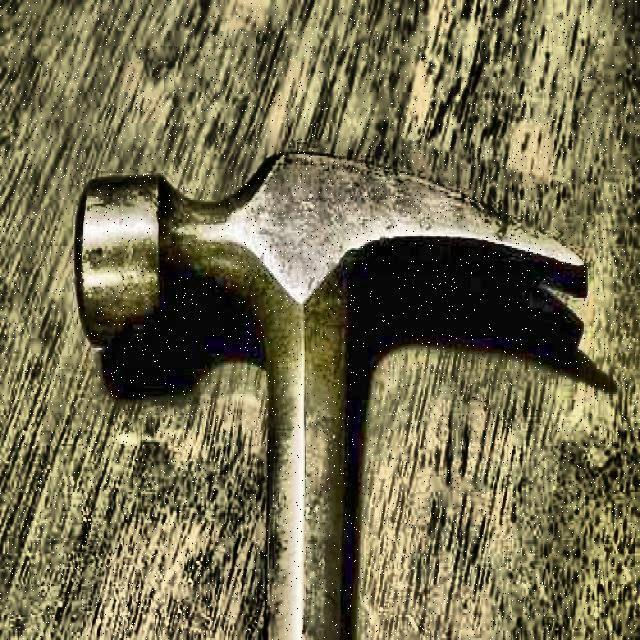hammer: (76, 149, 586, 640)
